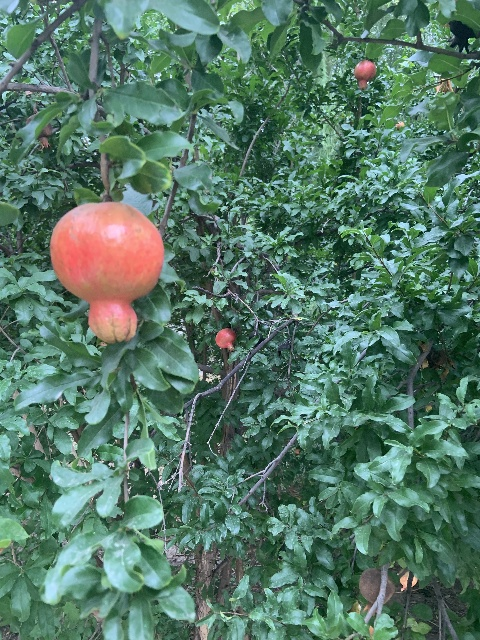ripe: (49, 202, 164, 346), (353, 60, 376, 90), (215, 328, 236, 351)
